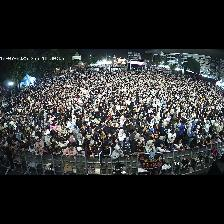person: (99, 144, 112, 169), (131, 134, 143, 151), (85, 142, 98, 157), (63, 143, 76, 157), (132, 141, 144, 155), (167, 129, 175, 150), (52, 143, 64, 156), (112, 146, 124, 159), (155, 140, 168, 152), (151, 123, 160, 140), (189, 127, 197, 145), (146, 140, 156, 154), (145, 131, 155, 144), (160, 123, 167, 141), (118, 129, 126, 144), (122, 121, 130, 136), (130, 120, 139, 133), (175, 139, 184, 152), (122, 143, 130, 157), (95, 135, 103, 149), (104, 133, 113, 145), (28, 142, 36, 155), (56, 131, 66, 141), (112, 139, 121, 150), (67, 116, 73, 132), (130, 129, 137, 142), (73, 125, 80, 138), (77, 133, 84, 146), (19, 141, 28, 151), (174, 119, 180, 134), (190, 137, 198, 148), (36, 137, 44, 148), (58, 138, 67, 147), (0, 138, 8, 148), (45, 133, 51, 146), (87, 134, 94, 145), (50, 120, 57, 131), (123, 137, 130, 148), (99, 130, 105, 142), (60, 125, 67, 135), (187, 123, 192, 137), (28, 134, 36, 142), (77, 147, 85, 155), (21, 134, 28, 143), (206, 135, 212, 145), (120, 116, 125, 127), (211, 135, 217, 144), (205, 120, 209, 132), (35, 129, 41, 137), (15, 141, 19, 153), (50, 138, 57, 144)
